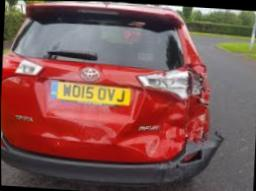Bumper: (107, 97, 225, 185)
Dickey: (1, 57, 191, 161)
Light: (134, 63, 215, 101)
